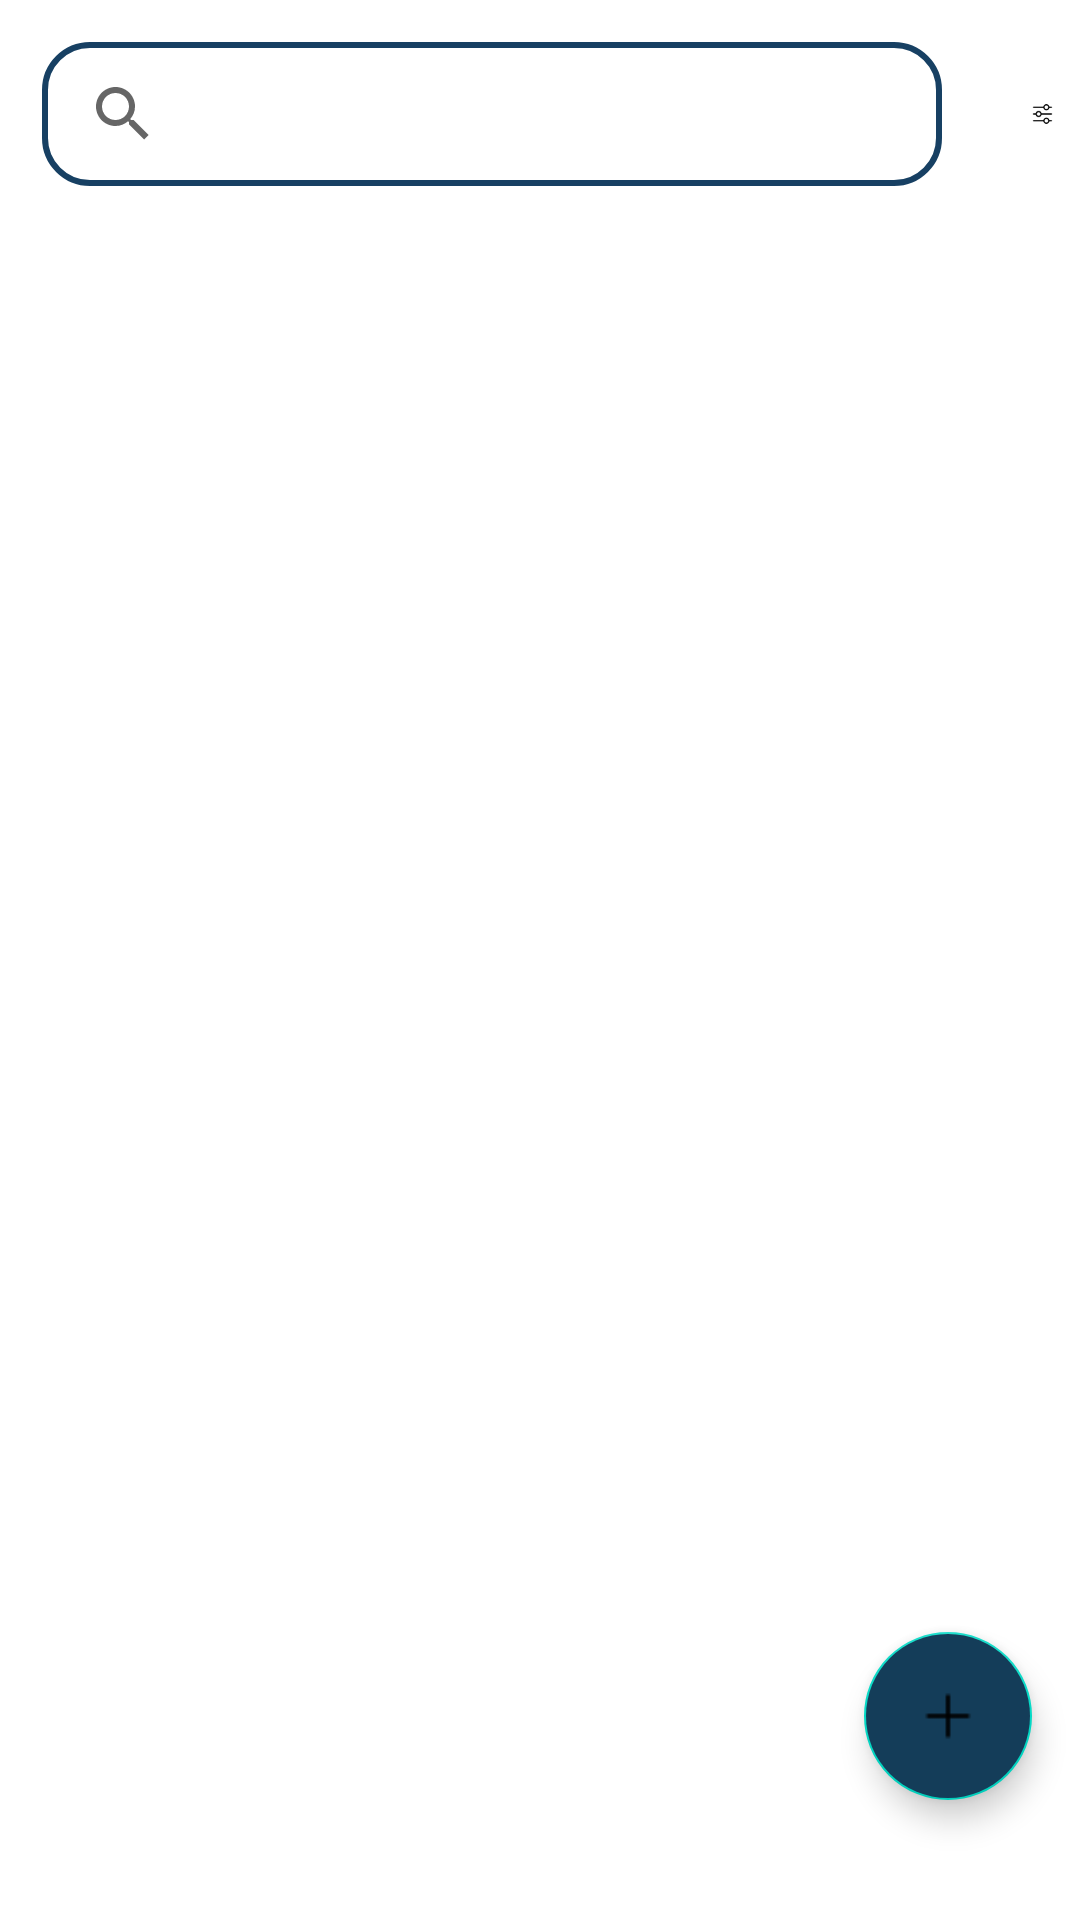

Icons on this 1080x1920 Android screen, each with the point to tap as (x=x, y=y):
plus: (x=948, y=1716)
